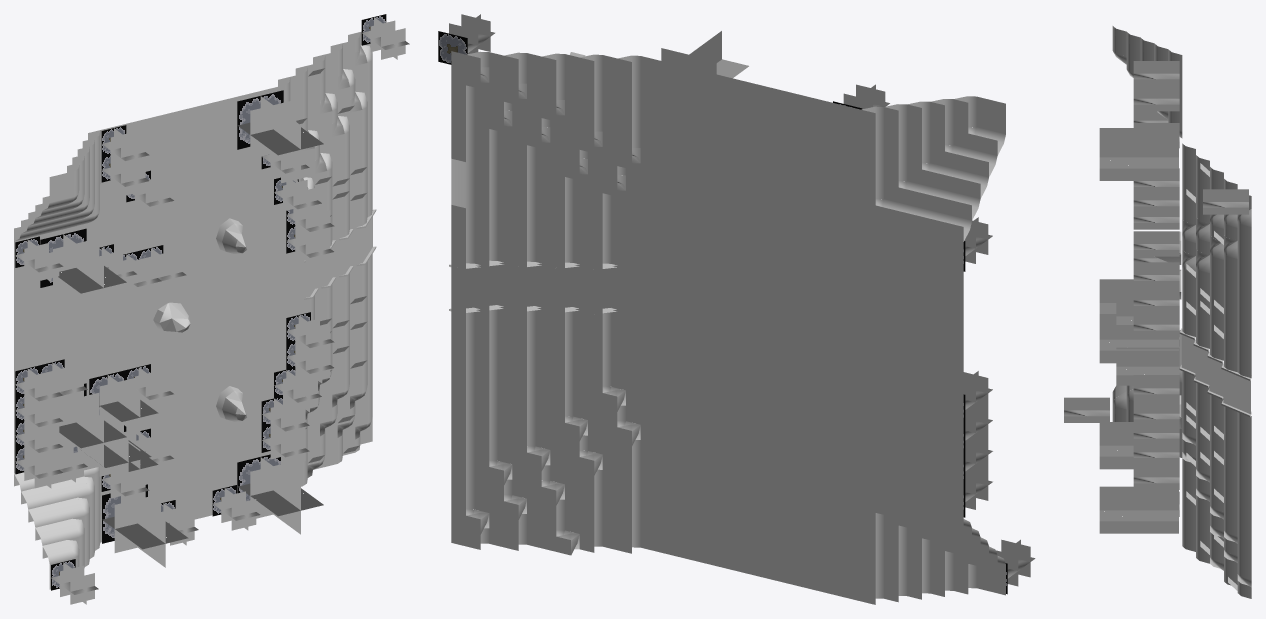
File: Asteria_25_10.obj
3 renders of one model, left to right at view 1: azimuth 30°, elevation 25°; view 2: azimuth 150°, elevation 25°; view 3: azimuth 270°, elevation 25°, orthographic. The views are drawn at different scales.
Parts seen in each view (by area): view 1: map; view 2: map; view 3: map.
Boxes of the visible parts, x1,y1,x2,y2 form: map: (14, 14, 409, 604); map: (438, 14, 1035, 604); map: (1064, 26, 1251, 598).
Bounding box in the file's own units: 33 × 33 × 13.51.
